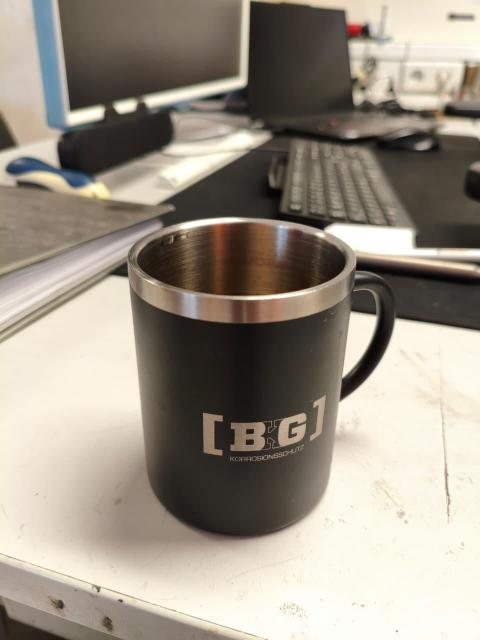Metal: (125, 217, 398, 530)
